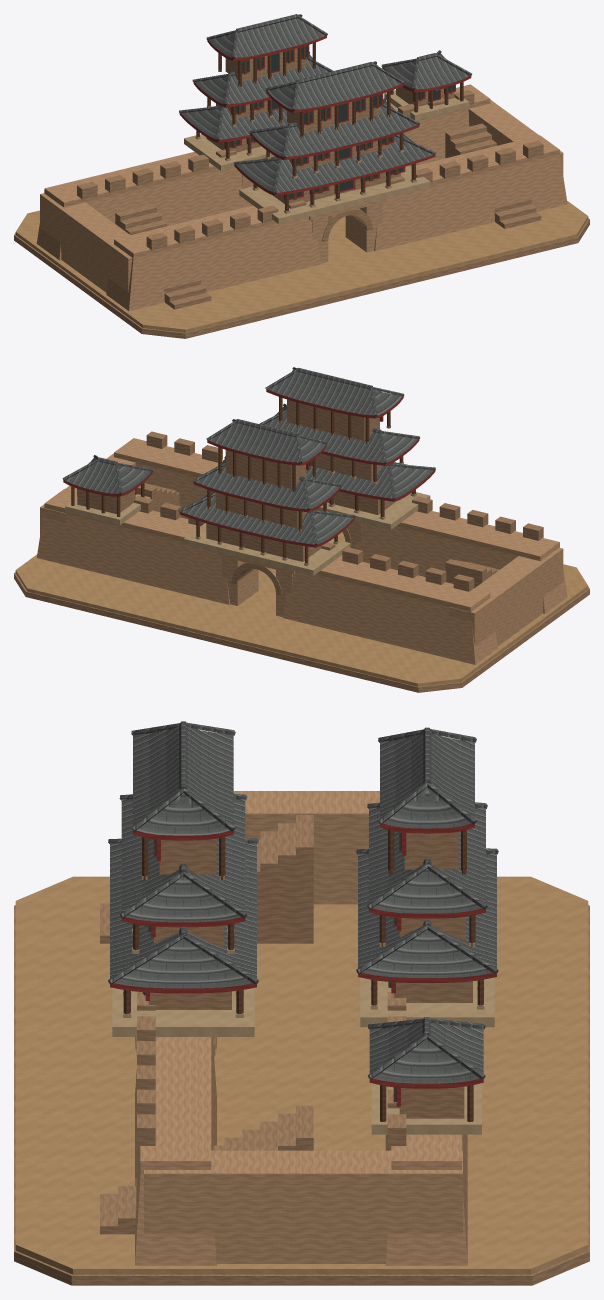
File: jiayuguan.glb
3 renders of one model, top to bottom at view 1: azimuth 30°, elevation 25°; view 2: azimuth 150°, elevation 25°; view 3: azimuth 270°, elevation 25°, orthographic. The views are drawn at different scales.
Visible parts, largest first — view 1: 嘉峪关关城; view 2: 嘉峪关关城; view 3: 嘉峪关关城.
Part boxes in pixels (x1,y1,x2,y2): 嘉峪关关城: (14, 14, 589, 338); 嘉峪关关城: (14, 367, 589, 692); 嘉峪关关城: (14, 721, 589, 1285).
Bounding box in the file's own units: 13.55 × 5.35 × 8.36.
Materials: 9 (9 with a texture image).
